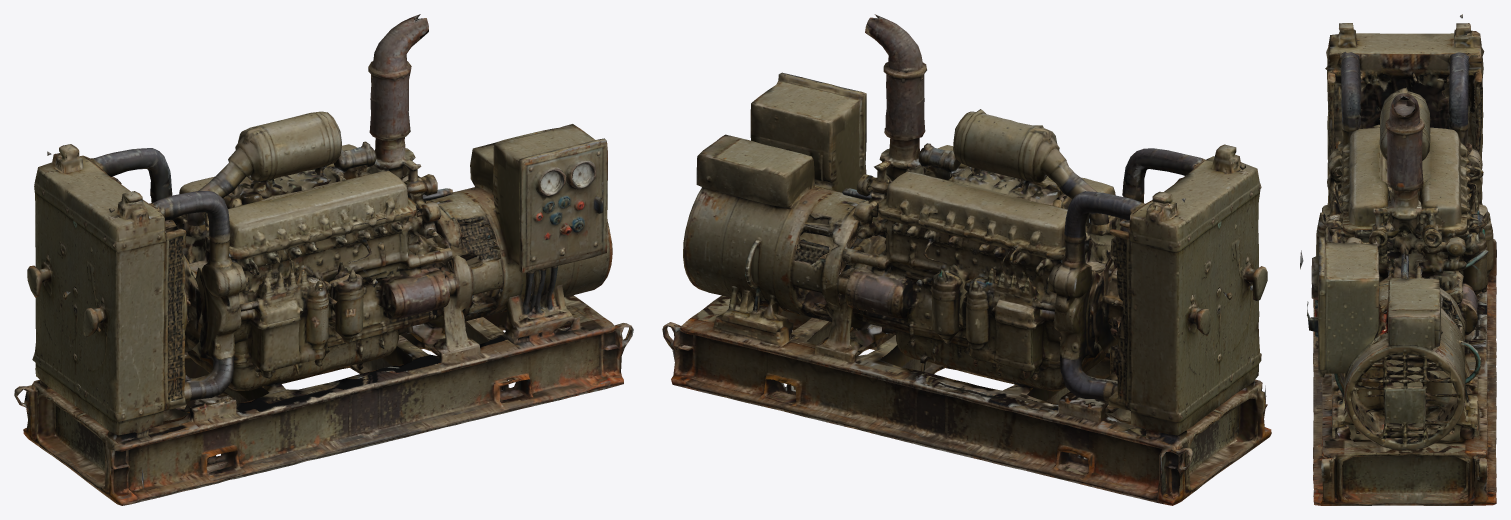
The model's file is BKI_Generator.fbx.
3 views of the same model, side by side, from view 1: azimuth 30°, elevation 25°; view 2: azimuth 150°, elevation 25°; view 3: azimuth 270°, elevation 25° (orthographic). The views are drawn at different scales.
Visible parts, largest first — view 1: texture_mapping; view 2: texture_mapping; view 3: texture_mapping.
Boxes of the visible parts, x1=… form: texture_mapping: x1=14, y1=14, x2=633, y2=505; texture_mapping: x1=662, y1=14, x2=1271, y2=505; texture_mapping: x1=1300, y1=14, x2=1496, y2=505.
Size of the model in its own units: 1 by 0.352 by 0.669.
1 material, 1 textured.
